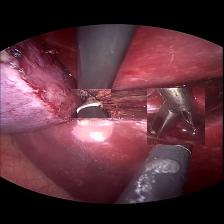Grasper: (148, 87, 206, 144)
Hook: (71, 88, 111, 117)
